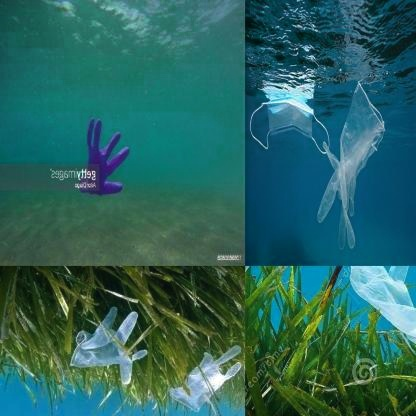Mask: (250, 100, 328, 164)
glove: (316, 78, 386, 256), (337, 266, 416, 366), (245, 266, 314, 378), (69, 306, 149, 389), (166, 342, 244, 415), (76, 117, 129, 202)
